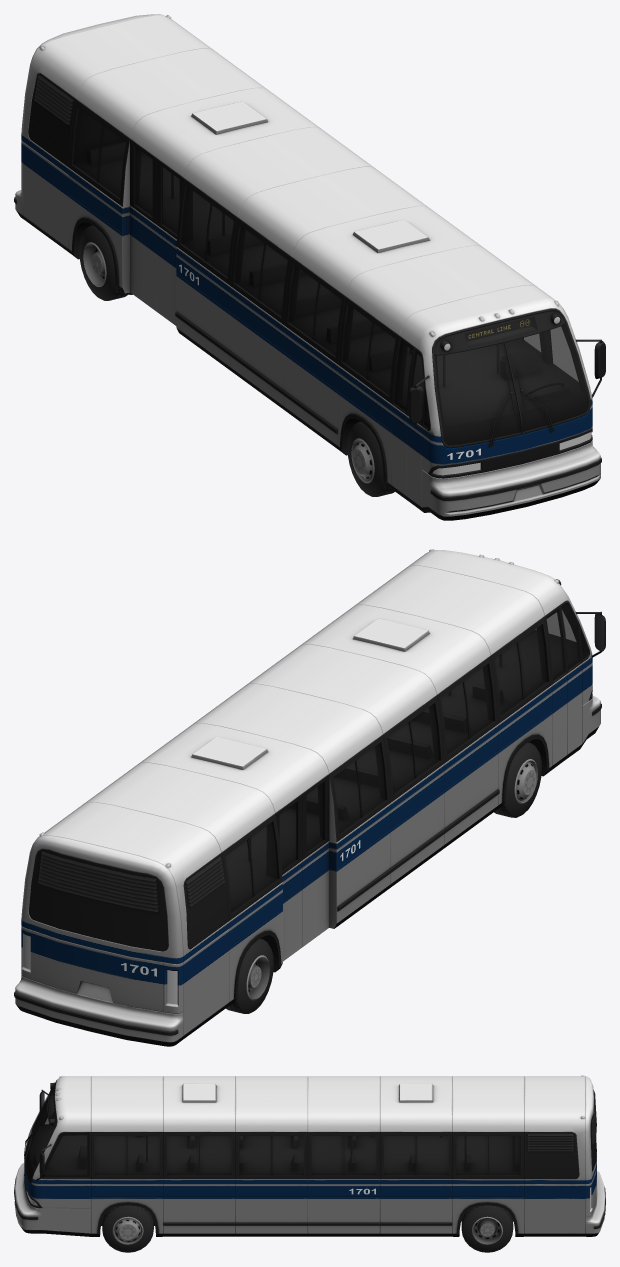
Rendered from citybus.fbx.
The picture shows the model from 3 angles, top to bottom: view 1: azimuth 30°, elevation 25°; view 2: azimuth 150°, elevation 25°; view 3: azimuth 270°, elevation 25°; orthographic projection. The views are drawn at different scales.
Parts seen in each view (by area): view 1: citybus, citybus_wheelRR, citybus_wheelFR; view 2: citybus, citybus_wheelFR, citybus_wheelRR; view 3: citybus, citybus_wheelRL, citybus_wheelFL.
Boxes of the visible parts, x1,y1,x2,y2 form: citybus: [14, 14, 605, 520]; citybus_wheelRR: [79, 225, 132, 300]; citybus_wheelFR: [347, 422, 394, 496]; citybus: [14, 549, 605, 1046]; citybus_wheelFR: [494, 742, 541, 817]; citybus_wheelRR: [226, 938, 273, 1013]; citybus: [14, 1075, 605, 1236]; citybus_wheelRL: [461, 1205, 513, 1252]; citybus_wheelFL: [102, 1205, 153, 1252].
Size of the model in its own units: 2650 by 2630 by 10401.
